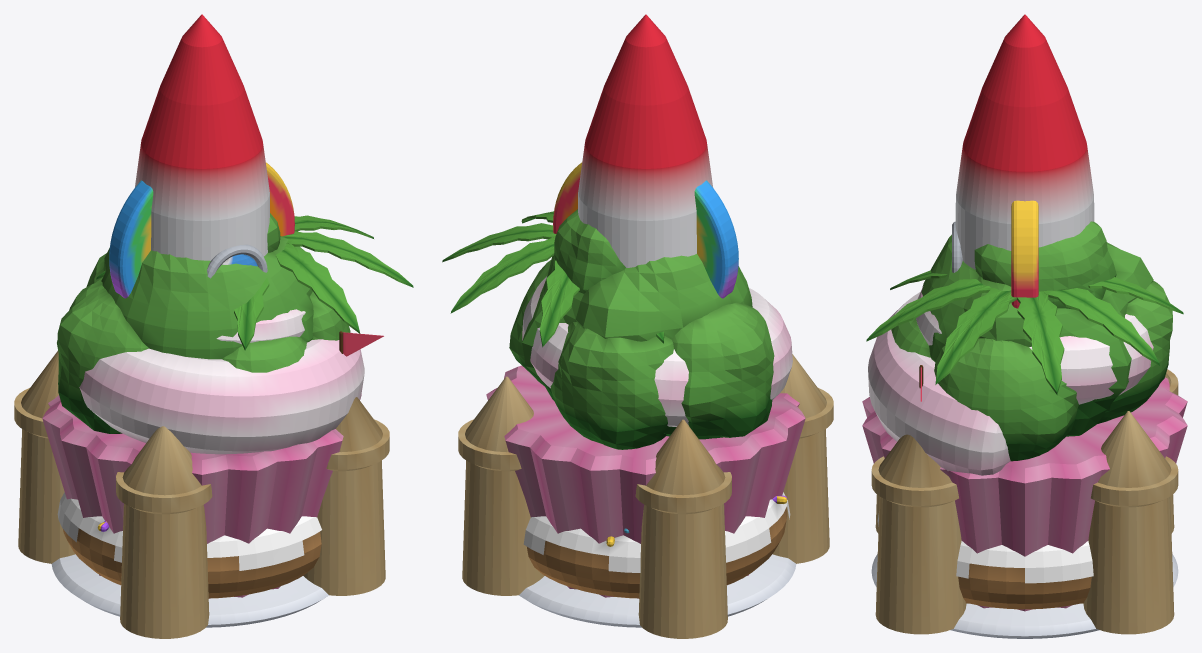
Rendered from pynt.glb.
The picture shows the model from 3 angles, left to right: view 1: azimuth 30°, elevation 25°; view 2: azimuth 150°, elevation 25°; view 3: azimuth 270°, elevation 25°; orthographic projection.
Parts seen in each view (by area): view 1: kæmpecupcakecreme, raketkrop, kæmpecupcakepapir, trækrone0, tårn2, tårn3, trækrone2, tårn0, ufoskål, svævedonutdej, slikskive, svævedonutglasur (+11 smaller); view 2: raketkrop, kæmpecupcakepapir, tårn0, trækrone4, trækrone2, trækrone0, tårn1, tårn2, ufoskål, kæmpecupcakecreme, svævedonutdej, svævedonutglasur (+9 smaller); view 3: raketkrop, kæmpecupcakepapir, kæmpecupcakecreme, tårn1, tårn3, trækrone1, trækrone0, trækrone5, svævedonutdej, ufoskål, svævedonutglasur, tårntag1 (+9 smaller).
Boxes of the visible parts, x1=… form: kæmpecupcakecreme: x1=79, y1=309, x2=364, y2=454; raketkrop: x1=135, y1=14, x2=269, y2=260; kæmpecupcakepapir: x1=42, y1=394, x2=361, y2=598; trækrone0: x1=101, y1=236, x2=313, y2=359; tårn2: x1=116, y1=472, x2=212, y2=638; tårn3: x1=303, y1=419, x2=389, y2=595; trækrone2: x1=57, y1=281, x2=148, y2=433; tårn0: x1=14, y1=388, x2=75, y2=563; ufoskål: x1=51, y1=554, x2=328, y2=627; svævedonutdej: x1=63, y1=528, x2=321, y2=598; slikskive: x1=109, y1=162, x2=294, y2=298; svævedonutglasur: x1=57, y1=492, x2=321, y2=570; raketkrop: x1=578, y1=14, x2=713, y2=267; kæmpecupcakepapir: x1=486, y1=365, x2=805, y2=598; tårn0: x1=635, y1=472, x2=731, y2=638; trækrone4: x1=550, y1=322, x2=673, y2=449; trækrone2: x1=663, y1=302, x2=774, y2=439; trækrone0: x1=522, y1=254, x2=752, y2=400; tårn1: x1=458, y1=419, x2=544, y2=595; tårn2: x1=772, y1=388, x2=833, y2=563; ufoskål: x1=519, y1=554, x2=796, y2=627; kæmpecupcakecreme: x1=522, y1=276, x2=792, y2=426; svævedonutdej: x1=527, y1=508, x2=787, y2=598; svævedonutglasur: x1=523, y1=492, x2=790, y2=572; raketkrop: x1=955, y1=14, x2=1094, y2=269; kæmpecupcakepapir: x1=862, y1=377, x2=1187, y2=611; kæmpecupcakecreme: x1=868, y1=286, x2=1153, y2=475; tårn1: x1=1083, y1=456, x2=1178, y2=634; tårn3: x1=871, y1=456, x2=966, y2=634; trækrone1: x1=934, y1=338, x2=1078, y2=461; trækrone0: x1=921, y1=234, x2=1153, y2=436; trækrone5: x1=974, y1=221, x2=1116, y2=309; svævedonutdej: x1=958, y1=563, x2=1091, y2=609; ufoskål: x1=871, y1=554, x2=1178, y2=638; svævedonutglasur: x1=877, y1=513, x2=1093, y2=583; tårntag1: x1=1098, y1=411, x2=1171, y2=487.
Bounding box in the file's own units: 5.59 × 9.3 × 4.71.
